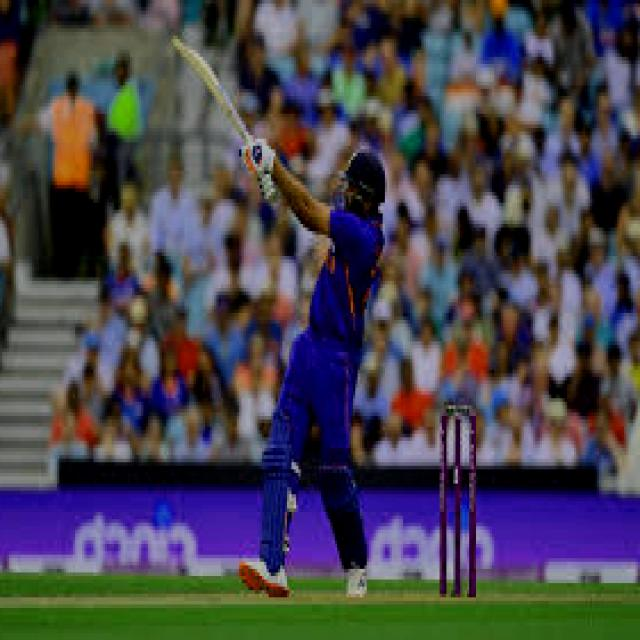toe: (166, 28, 188, 54)
